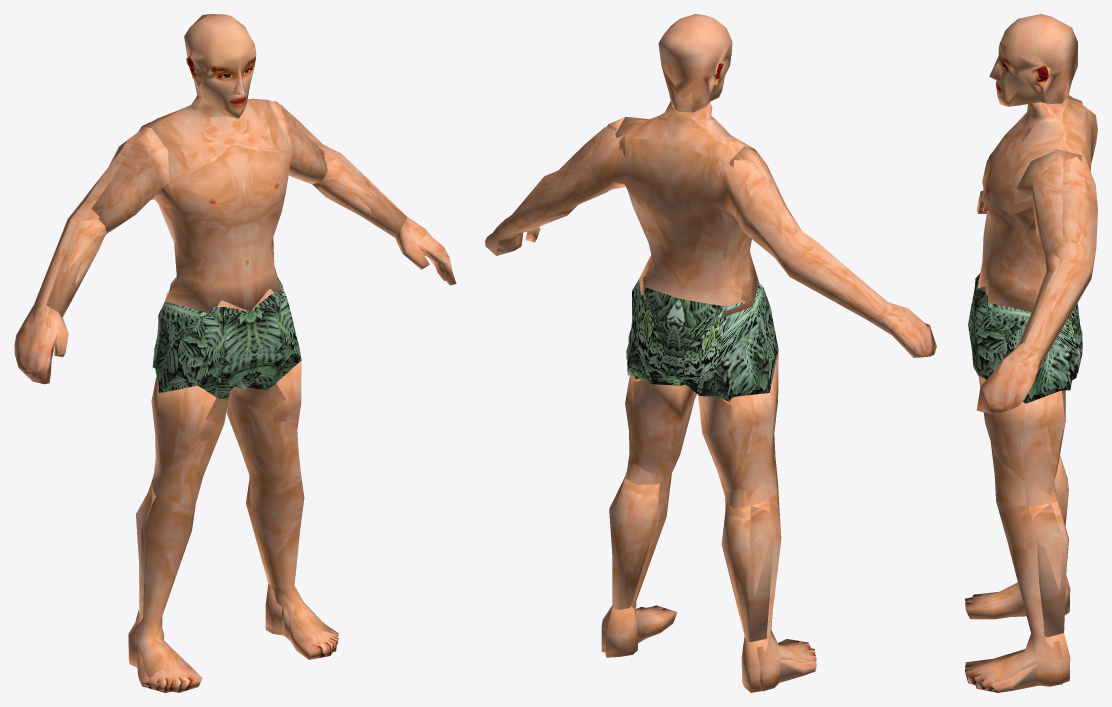
File: MaleHumanBaseHair.fbx
3 views of the same model, side by side, from view 1: azimuth 30°, elevation 25°; view 2: azimuth 150°, elevation 25°; view 3: azimuth 270°, elevation 25° (orthographic). The views are drawn at different scales.
Visible parts, largest first — view 1: JoinedBody, Torso, Tunic, Head.001, ArmUpperL, LegUpperR, ArmUpperR, ArmLowerL, ArmLowerR, LegUpperL, FootL, FootR; view 2: JoinedBody, Tunic, Head.001, LegLowerL, LegLowerR, Torso, LegUpperR, FootR, FootL, LegUpperL, ArmUpperL; view 3: JoinedBody, Torso, Head.001, Tunic, LegUpperL, ArmUpperR, LegLowerL, FootL, ArmLowerL, LegLowerR, FootR.
Part boxes in pixels (x1,y1,x2,y2): JoinedBody: [14, 101, 456, 692]; Torso: [142, 95, 292, 312]; Tunic: [152, 277, 301, 395]; Head.001: [184, 14, 256, 118]; ArmUpperL: [92, 126, 169, 233]; LegUpperR: [151, 376, 216, 495]; ArmUpperR: [268, 100, 327, 184]; ArmLowerL: [312, 158, 407, 232]; ArmLowerR: [46, 219, 106, 314]; LegUpperL: [272, 360, 301, 428]; FootL: [265, 583, 338, 651]; FootR: [135, 609, 172, 692]; JoinedBody: [485, 117, 936, 691]; Tunic: [626, 279, 778, 399]; Head.001: [658, 14, 732, 112]; LegLowerL: [612, 478, 659, 609]; LegLowerR: [721, 500, 773, 641]; Torso: [615, 101, 758, 315]; LegUpperR: [721, 350, 778, 508]; FootR: [741, 637, 816, 692]; FootL: [605, 605, 645, 657]; LegUpperL: [625, 375, 661, 484]; ArmUpperL: [729, 146, 801, 230]; JoinedBody: [965, 95, 1097, 688]; Torso: [977, 96, 1082, 311]; Head.001: [989, 14, 1077, 106]; Tunic: [968, 274, 1082, 403]; LegUpperL: [978, 375, 1065, 507]; ArmUpperR: [1016, 149, 1081, 254]; LegLowerL: [1028, 500, 1068, 637]; FootL: [972, 633, 1070, 692]; ArmLowerL: [1018, 252, 1059, 345]; LegLowerR: [1054, 455, 1068, 526]; FootR: [972, 575, 1070, 616].
Bounding box in the file's own units: 129 × 181 × 34.77.
Materials: 6 (3 with a texture image).
